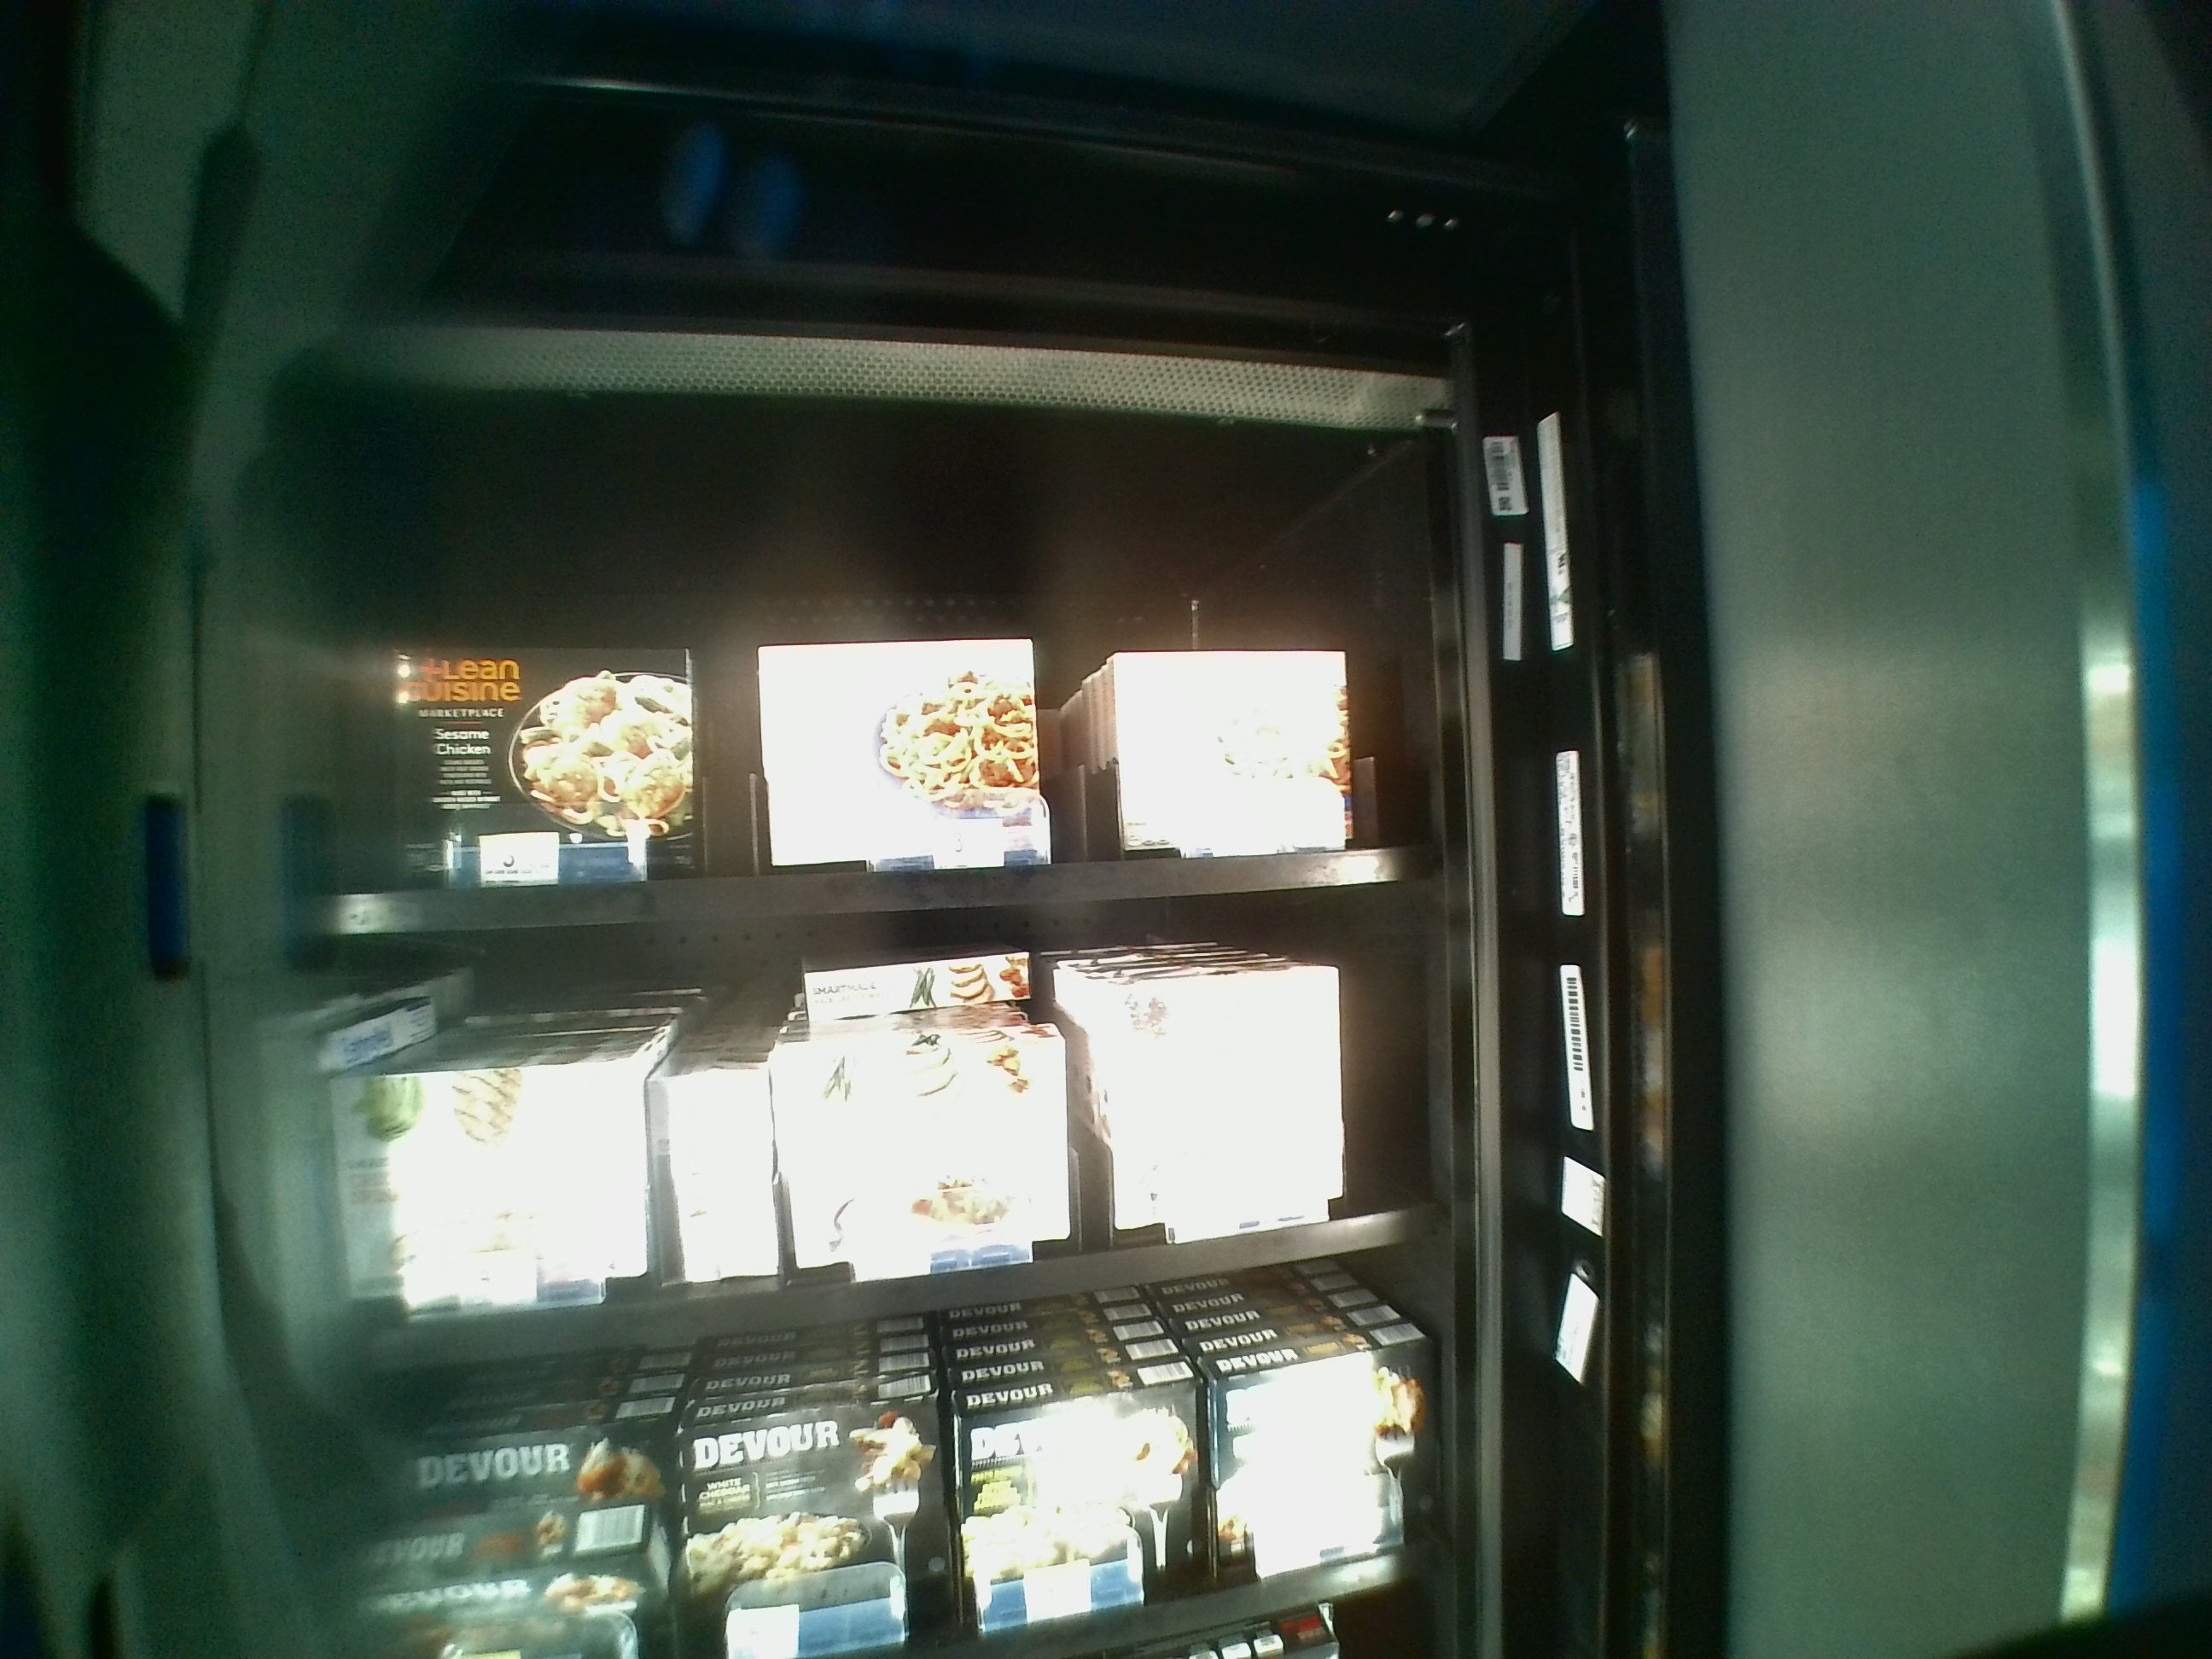shelf: (298, 471, 1433, 929), (308, 939, 1433, 1338)
